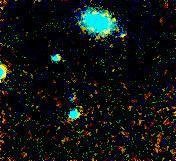star: (100, 4, 130, 34)
